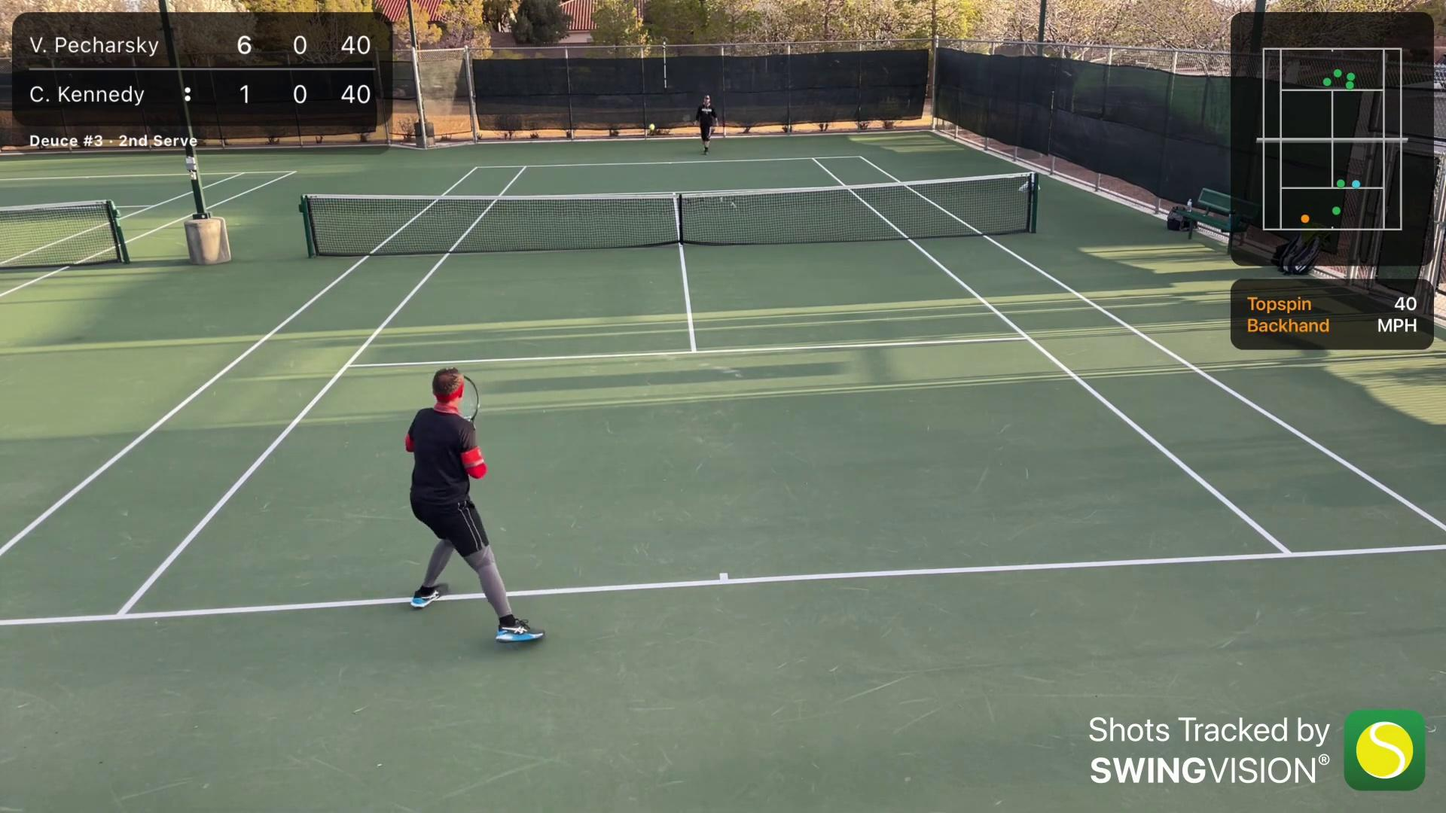ball: (648, 124, 655, 131)
